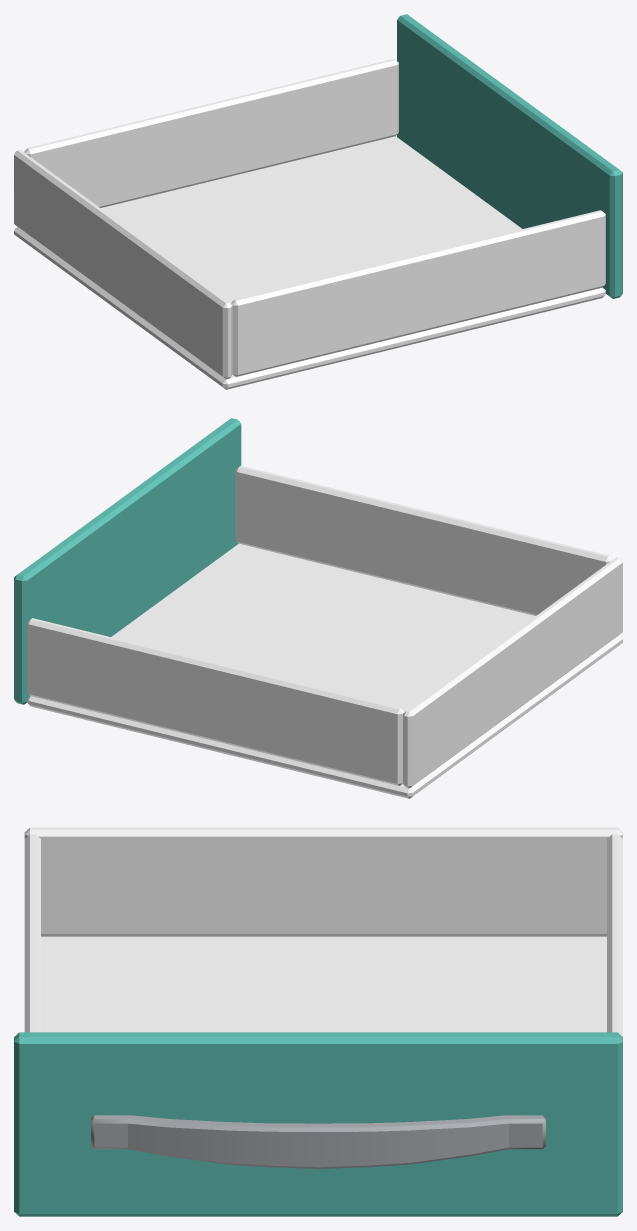
Rendered from Set_box_4.fbx.
3 renders of one model, top to bottom at view 1: azimuth 30°, elevation 25°; view 2: azimuth 150°, elevation 25°; view 3: azimuth 270°, elevation 25°, orthographic. The views are drawn at different scales.
Parts seen in each view (by area): view 1: Set_box_4; view 2: Set_box_4; view 3: Set_box_4.
Boxes of the visible parts, x1,y1,x2,y2 form: Set_box_4: (14,14,622,389); Set_box_4: (14,418,622,798); Set_box_4: (14,827,622,1216).
Size of the model in its own units: 0.6455 by 0.1848 by 0.5675.
